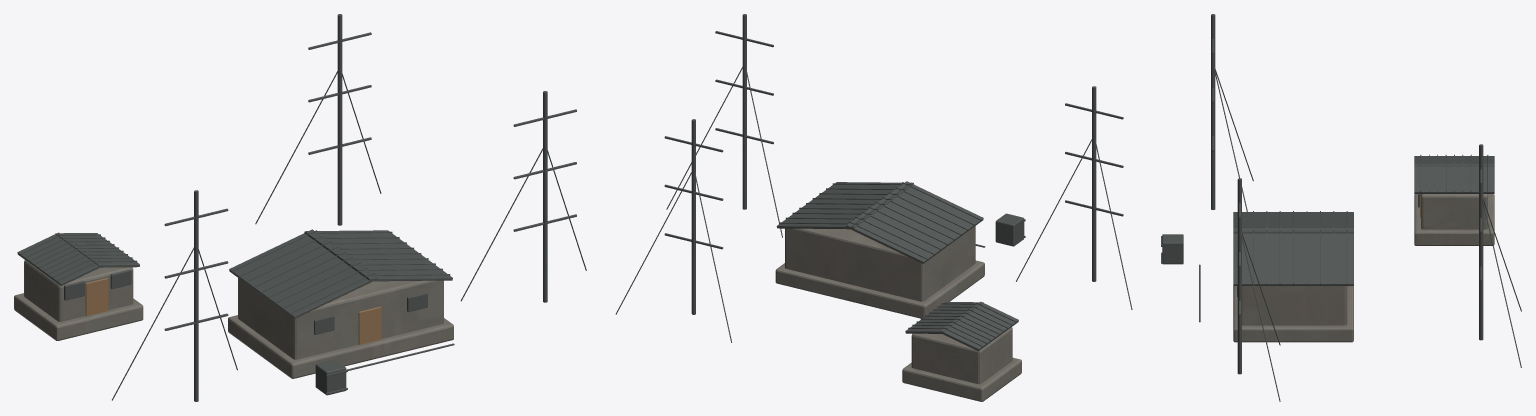
The model's file is marble-lod0.glb.
3 views of the same model, side by side, from view 1: azimuth 30°, elevation 25°; view 2: azimuth 150°, elevation 25°; view 3: azimuth 270°, elevation 25° (orthographic). The views are drawn at different scales.
Parts seen in each view (by area): view 1: marble_shelter_0, marble_generator_shed_4, marble_antenna_3, marble_relay_mast_1, marble_mast_2, marble_radio_rack_5; view 2: marble_shelter_0, marble_generator_shed_4, marble_antenna_3, marble_relay_mast_1, marble_mast_2, marble_radio_rack_5; view 3: marble_shelter_0, marble_generator_shed_4, marble_mast_2, marble_antenna_3, marble_relay_mast_1, marble_radio_rack_5.
Part boxes in pixels (<box>): marble_shelter_0: <box>228,229,453,378</box>; marble_generator_shed_4: <box>14,232,143,340</box>; marble_antenna_3: <box>255,14,381,225</box>; marble_relay_mast_1: <box>112,190,237,401</box>; marble_mast_2: <box>460,91,586,302</box>; marble_radio_rack_5: <box>315,359,347,395</box>; marble_shelter_0: <box>775,181,984,318</box>; marble_generator_shed_4: <box>902,301,1021,401</box>; marble_antenna_3: <box>615,119,731,342</box>; marble_relay_mast_1: <box>1016,86,1132,309</box>; marble_mast_2: <box>666,14,782,237</box>; marble_radio_rack_5: <box>995,213,1025,246</box>; marble_shelter_0: <box>1233,211,1353,342</box>; marble_generator_shed_4: <box>1414,154,1494,245</box>; marble_mast_2: <box>1237,178,1280,401</box>; marble_antenna_3: <box>1479,144,1521,367</box>; marble_relay_mast_1: <box>1211,14,1253,211</box>; marble_radio_rack_5: <box>1161,234,1183,264</box>.
Size of the model in its own units: 39.07 by 17 by 26.93.
Materials: 3 (3 with a texture image).
